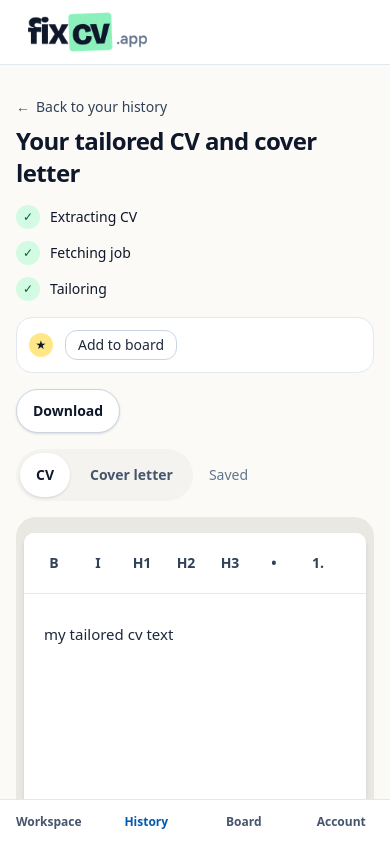
Test case: succeeded account run page › has exactly one export region, with the sheet closed and open
expect the element named "Your documents" is shown: met, box [16,449,193,501]
Click the button "Download" at (68, 411), box [16,389,120,433]
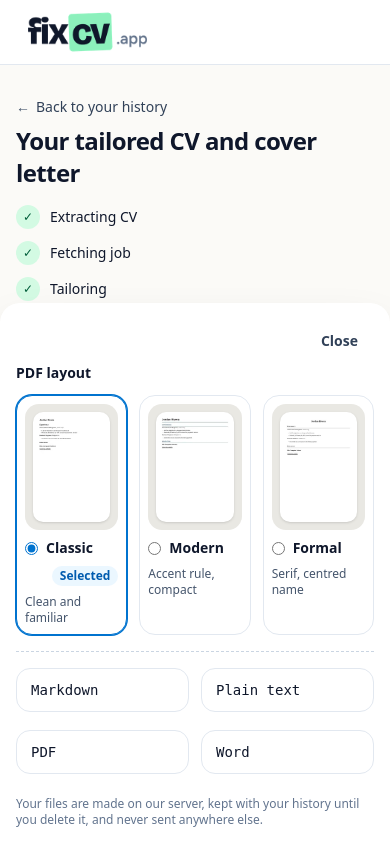
expect the button "Download" is expanded: met, box [16,389,120,433]
expect the number of elements named "Download this document" is 1: met, box [16,364,374,828]
